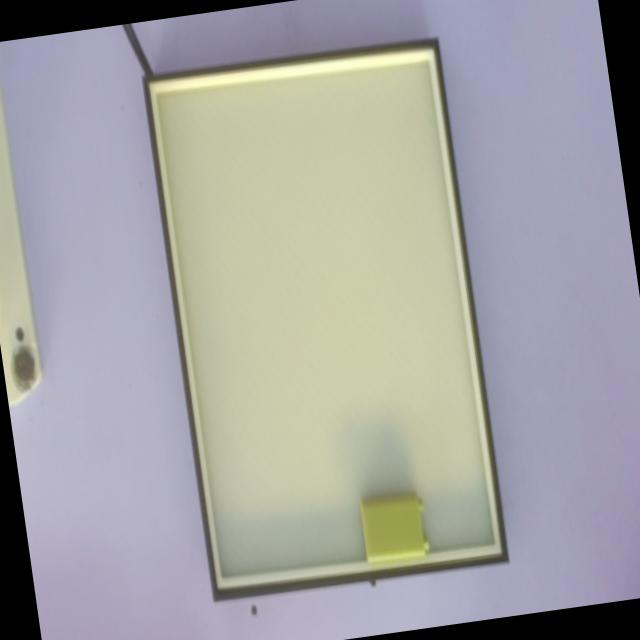bateria: (362, 493, 430, 563)
mesa: (142, 39, 509, 601)
